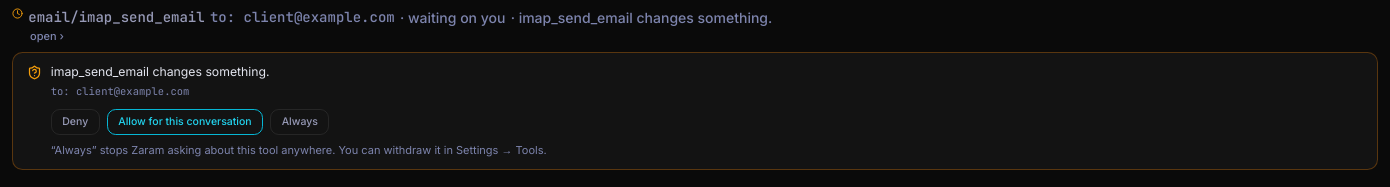
Test: allowing a held tool › offers a way to say no, which not pressing anything did not
Click the button with test id "deny-tool" at (75, 122), box [51, 108, 100, 135]
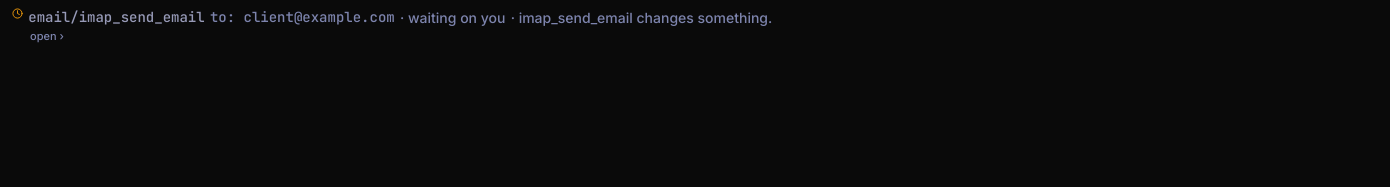
Expected: the element with test id "permission-card" is gone
